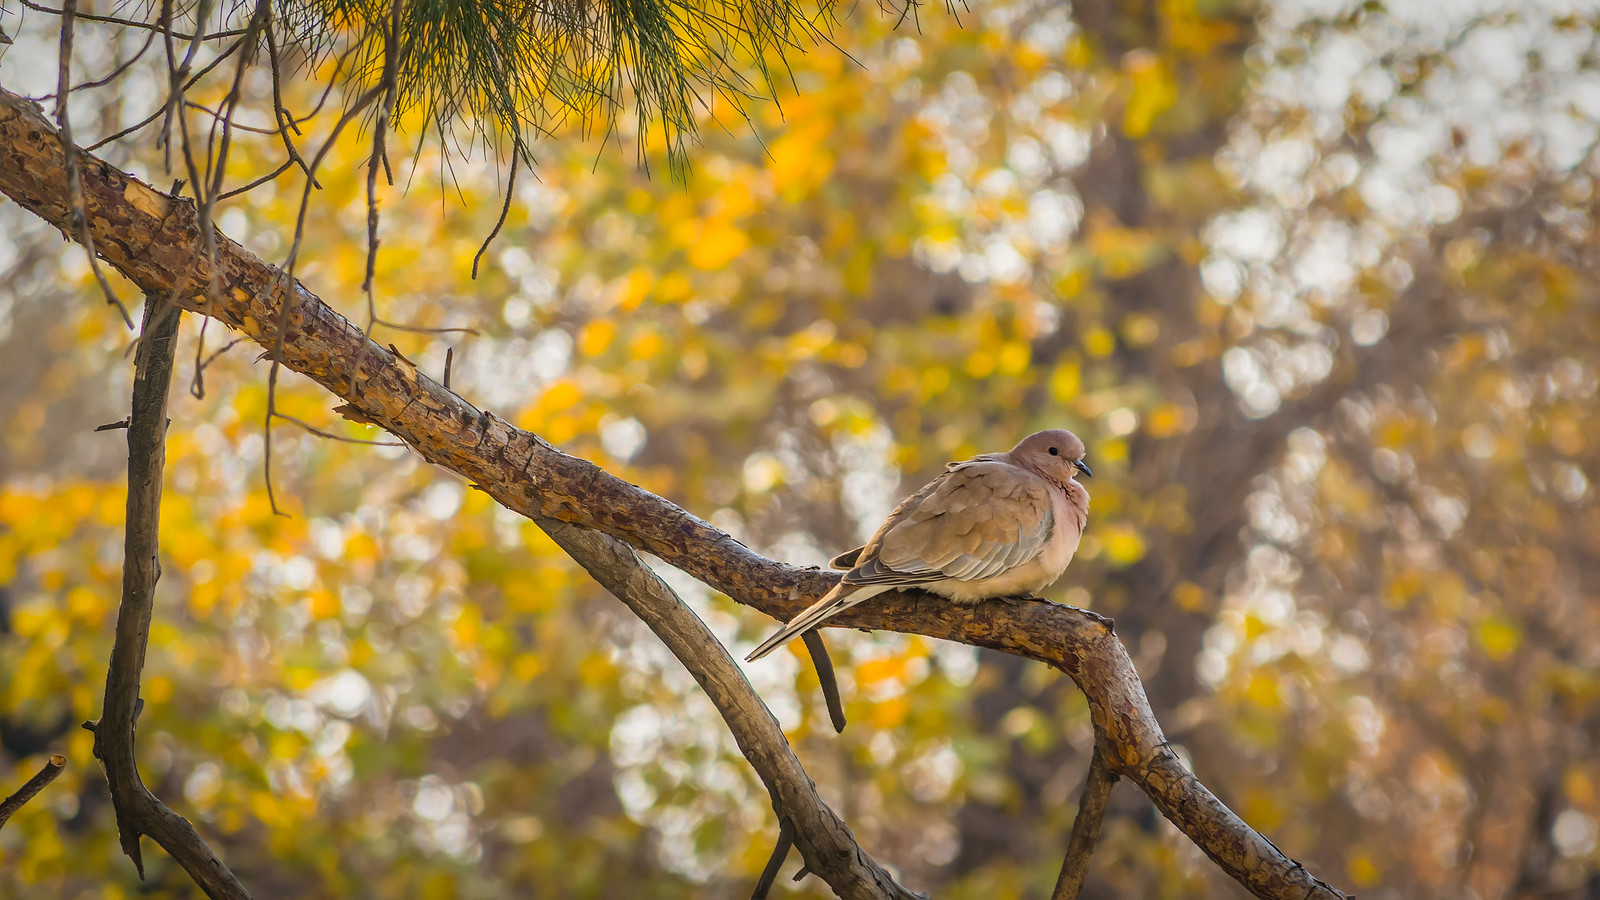bird: (765, 429, 1095, 651)
